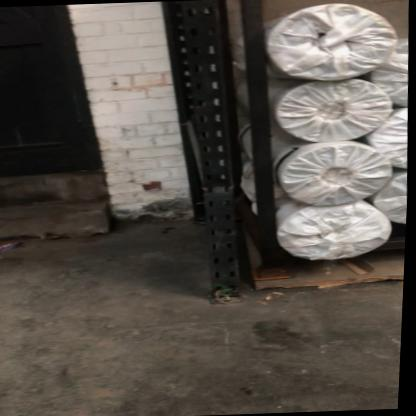vertical_damage: (193, 158, 253, 215)
